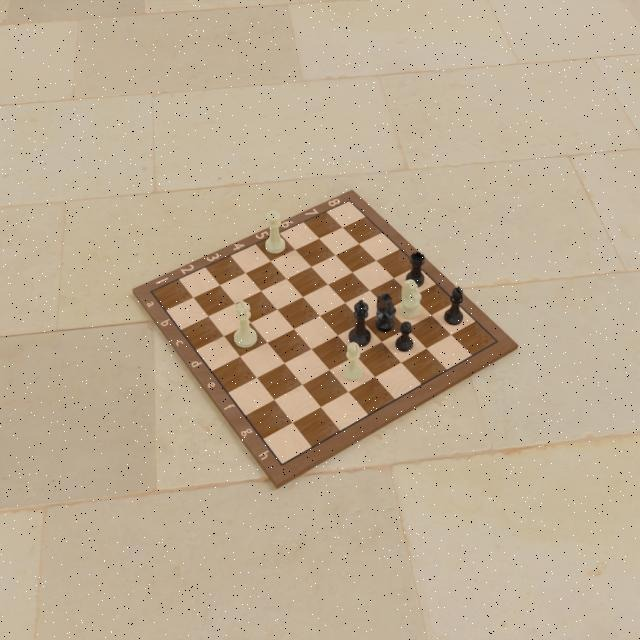black-bishop: (443, 284, 465, 326)
black-king: (348, 297, 371, 347)
black-knight: (374, 291, 397, 333)
black-pawn: (394, 319, 415, 352)
black-rook: (405, 250, 427, 289)
white-bishop: (342, 341, 362, 383)
white-king: (233, 298, 258, 350)
white-knight: (399, 279, 424, 320)
white-queen: (263, 211, 286, 257)
